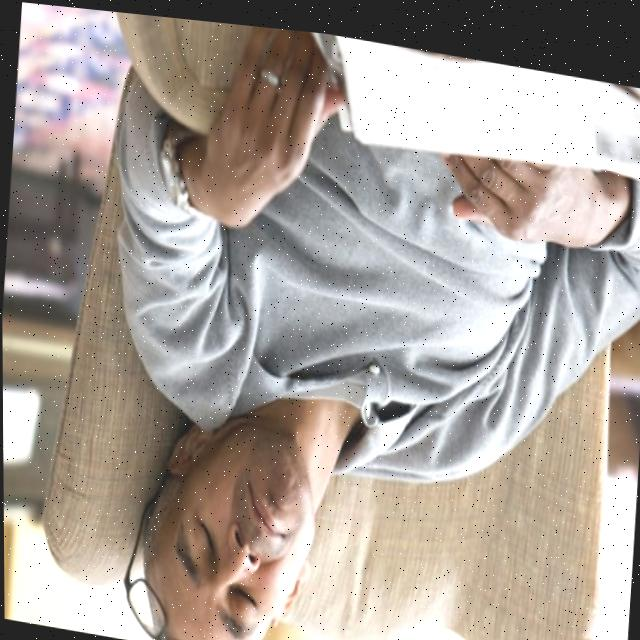sleeping-person: (64, 5, 640, 640)
